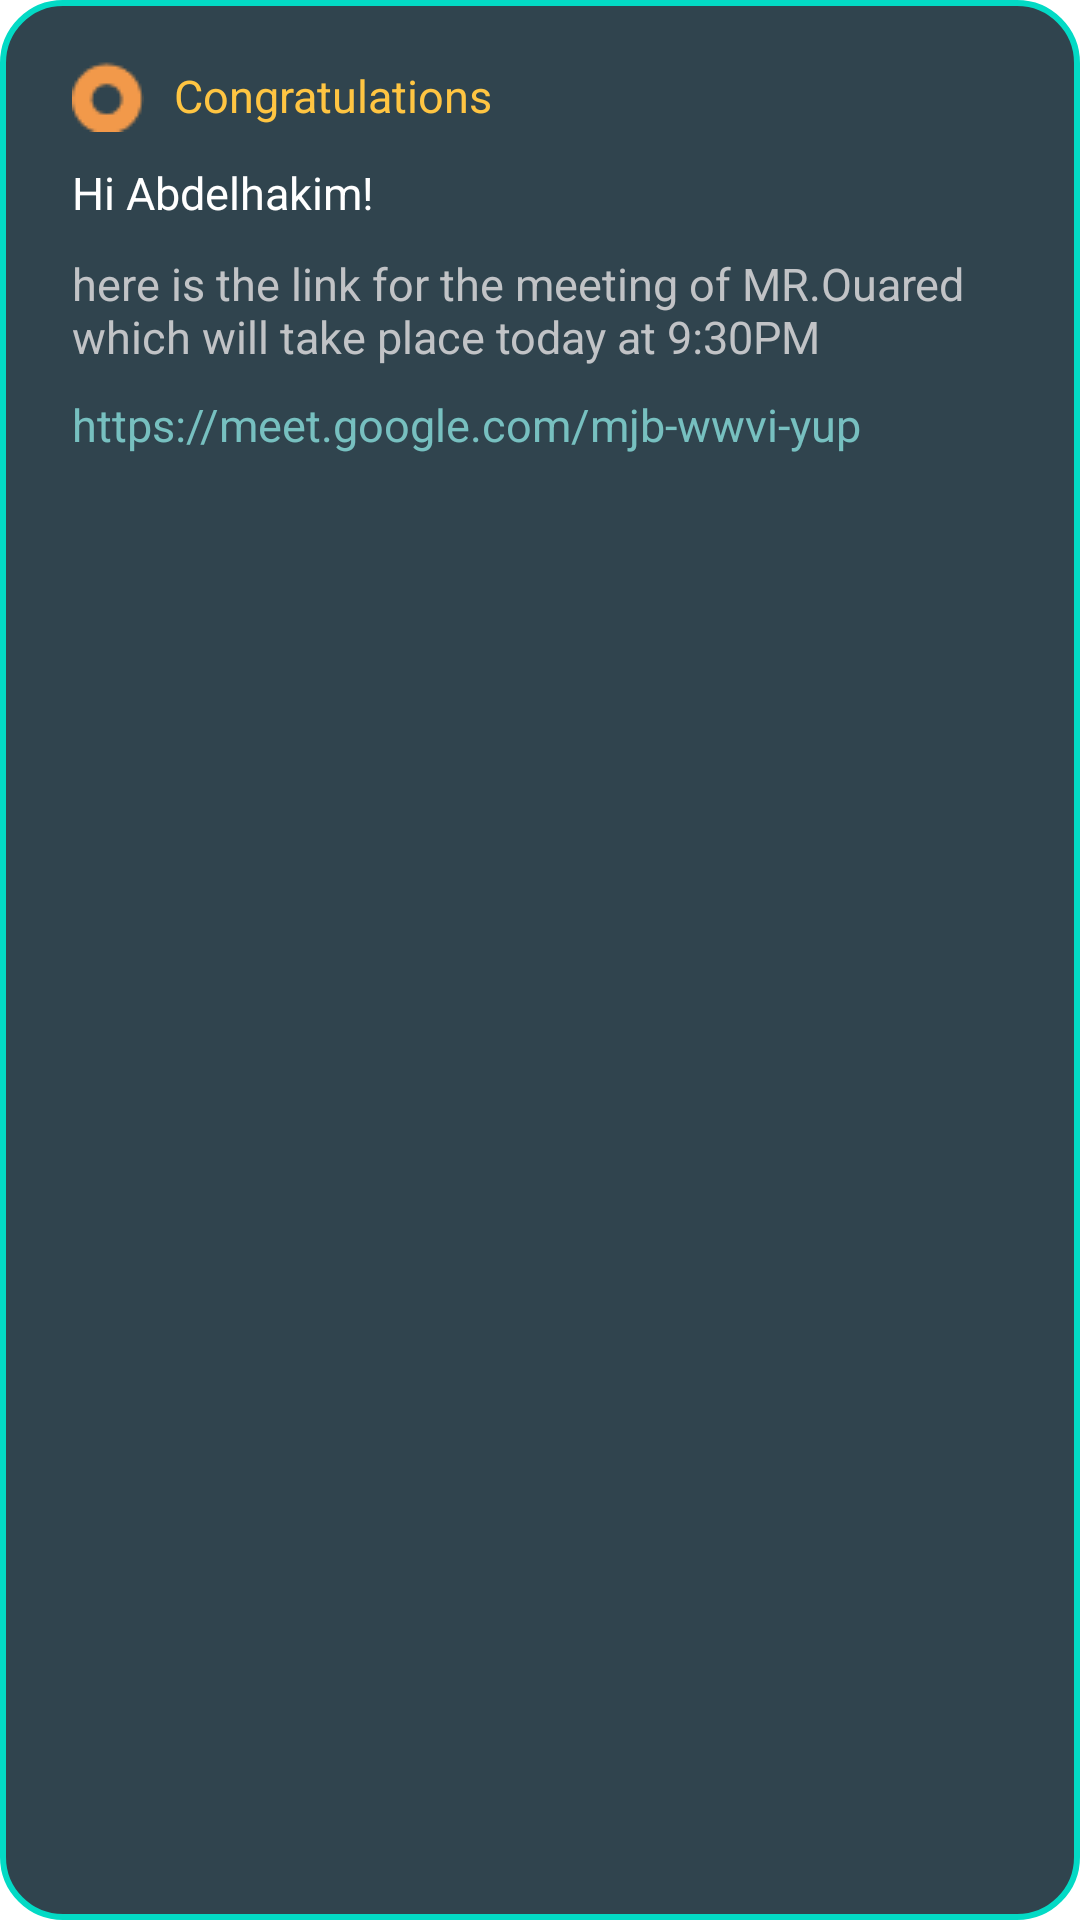

Icon bounding boxes for this 1080px x 1920px phone screenshot, format (x1, y1, x2, y2):
goldcircle: (72, 62, 144, 132)
